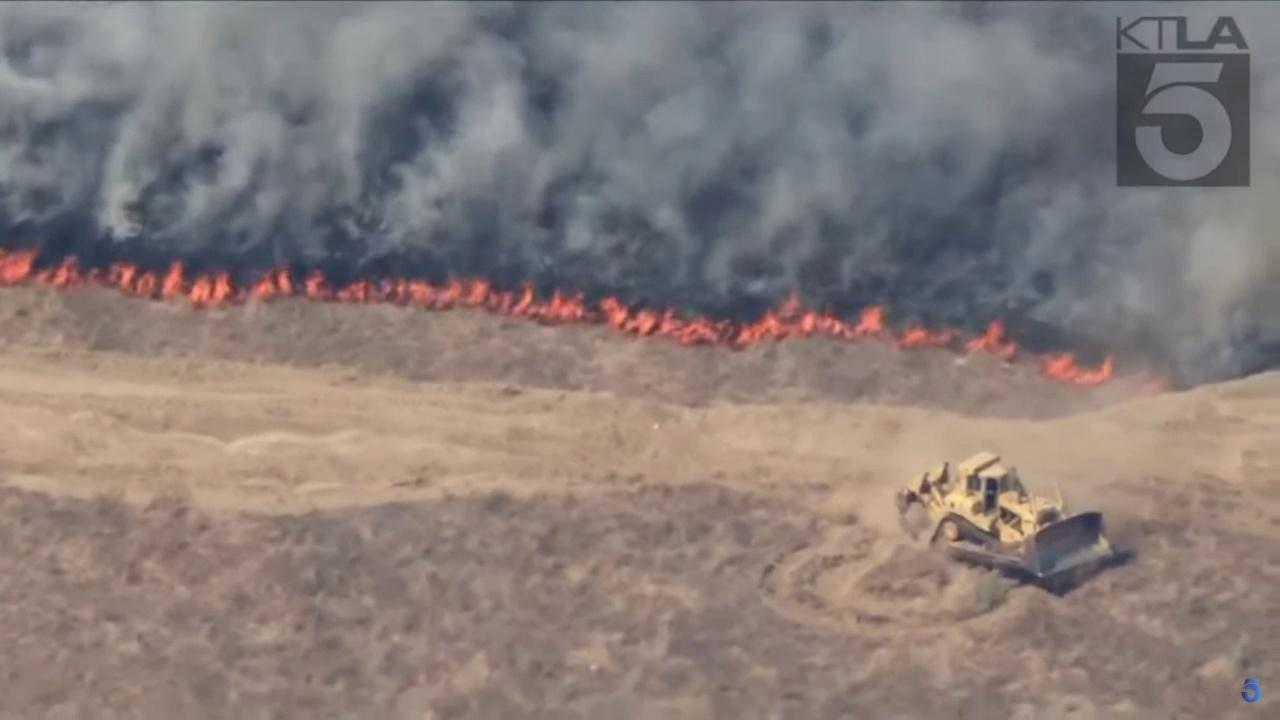fire: (0, 238, 1018, 361), (1043, 346, 1115, 386)
smoke: (0, 0, 1280, 379)
